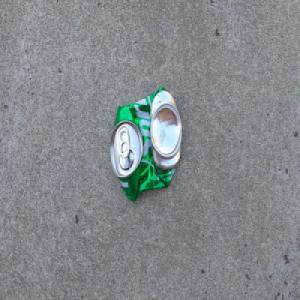SodaCan: (108, 84, 182, 204)
